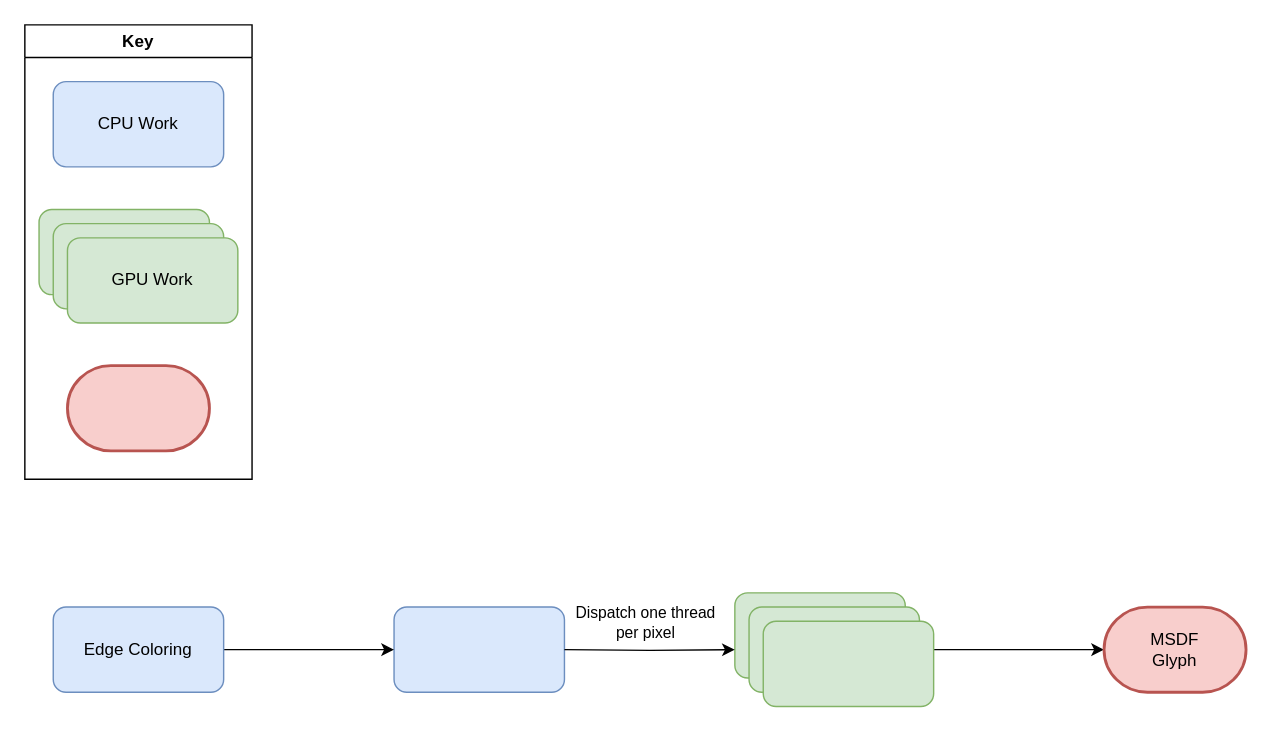
Some shapes in this 1272 by 731 pixel diagram are drawn without their labels. Here are the shapes that lost their labels. From the top down, the box of each, then its label:
(65, 364, 210, 452): Final Output
(393, 606, 564, 692): Populate Gpu Buffers
(762, 620, 934, 706): Generate Pixel GPU
